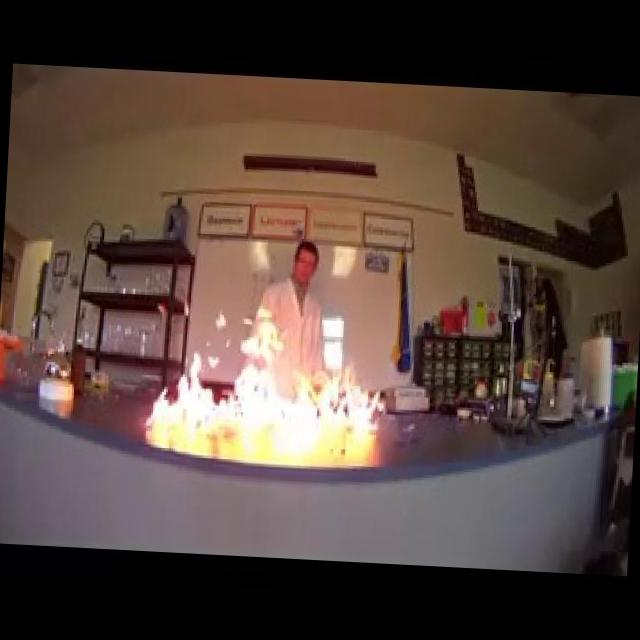Fire: (137, 324, 390, 444)
